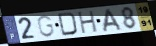2: (18, 16, 38, 41)
8: (120, 6, 138, 31)
A: (102, 8, 123, 33)
D: (57, 11, 79, 37)
G: (36, 15, 56, 38)
H: (77, 9, 99, 35)
